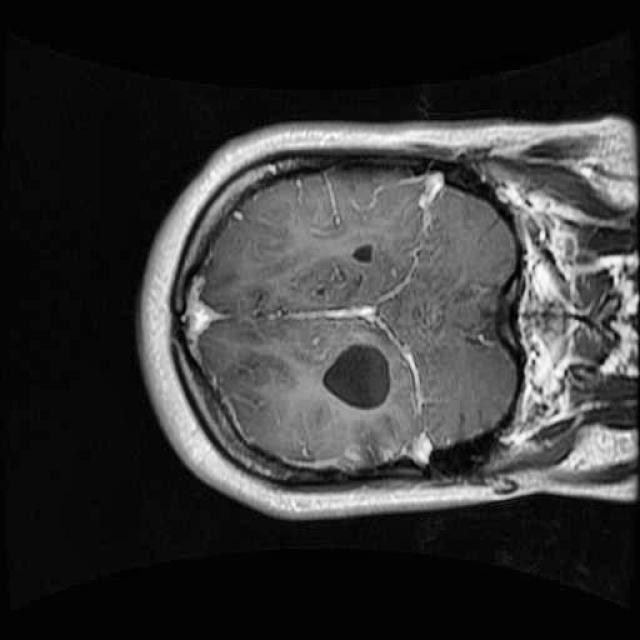Non-Tumor: (305, 325, 410, 426)
